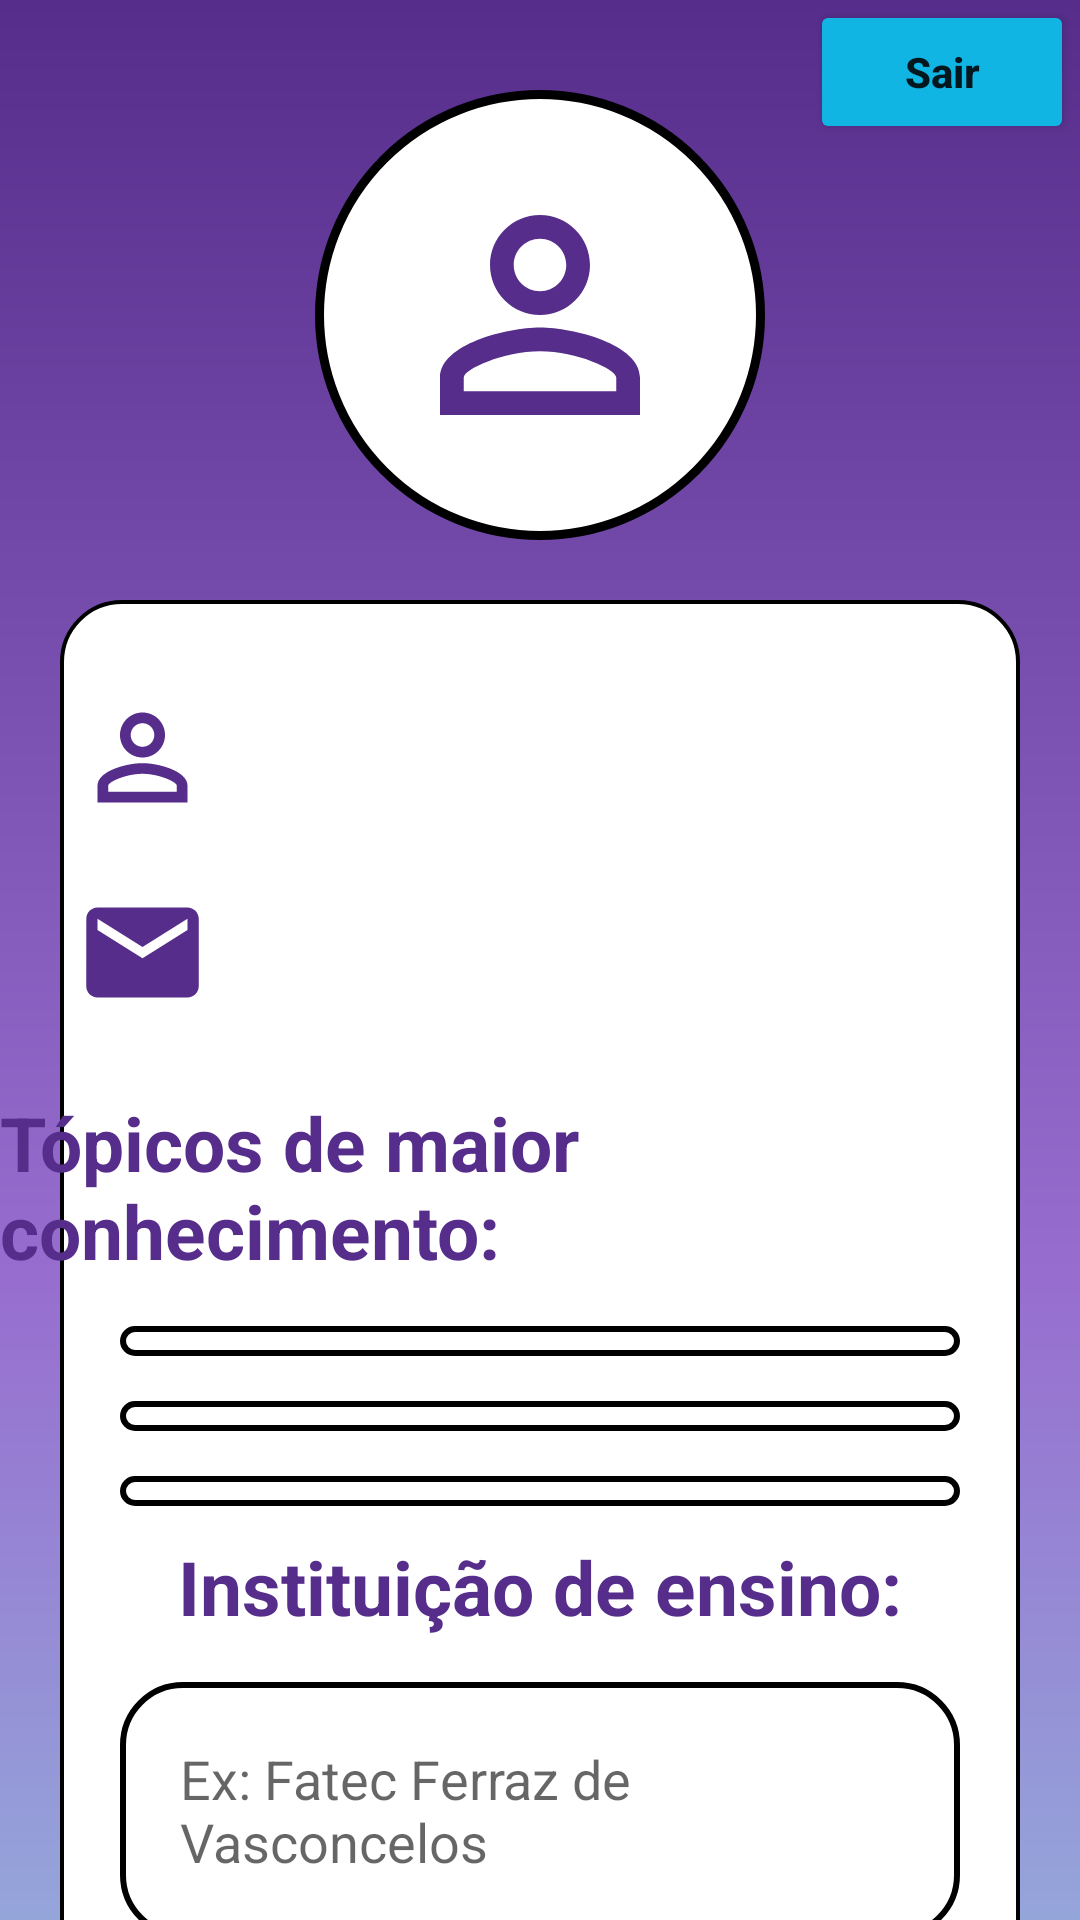

Locate icon controls on the screen. Image size 1080px x 1920px, boxes as rect(x1, y1, x2, y2).
email: rect(86, 907, 199, 998)
